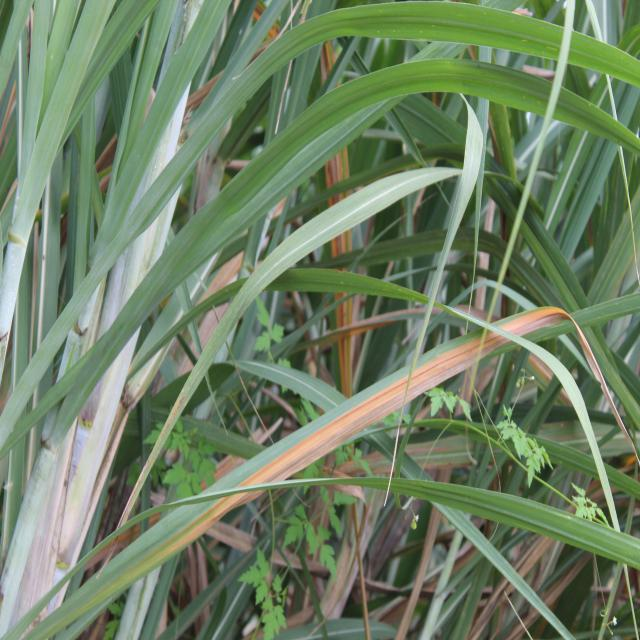Sugarcane: (0, 0, 640, 457), (125, 134, 392, 548), (0, 451, 315, 638), (304, 56, 640, 172), (296, 3, 640, 102), (5, 3, 132, 257), (112, 279, 329, 417), (540, 2, 638, 295), (415, 494, 591, 636), (414, 424, 640, 513), (281, 167, 461, 273), (190, 2, 304, 162), (108, 2, 181, 233), (495, 198, 589, 315), (15, 4, 54, 244), (275, 9, 330, 177), (476, 4, 520, 186), (370, 94, 474, 170), (588, 172, 638, 330), (227, 356, 333, 421), (276, 270, 436, 313), (436, 546, 498, 640), (346, 229, 467, 277), (134, 524, 184, 640), (163, 418, 275, 466), (70, 115, 90, 365), (550, 291, 639, 337), (78, 99, 98, 284)
